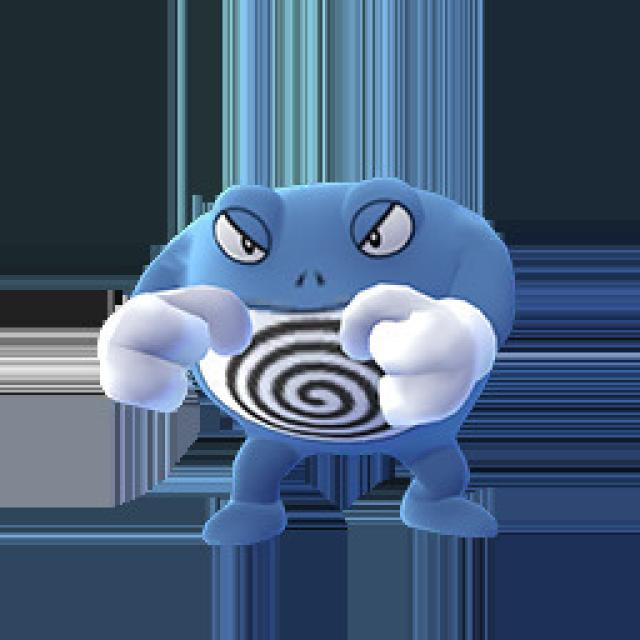Poliwrath: (101, 181, 506, 544)
